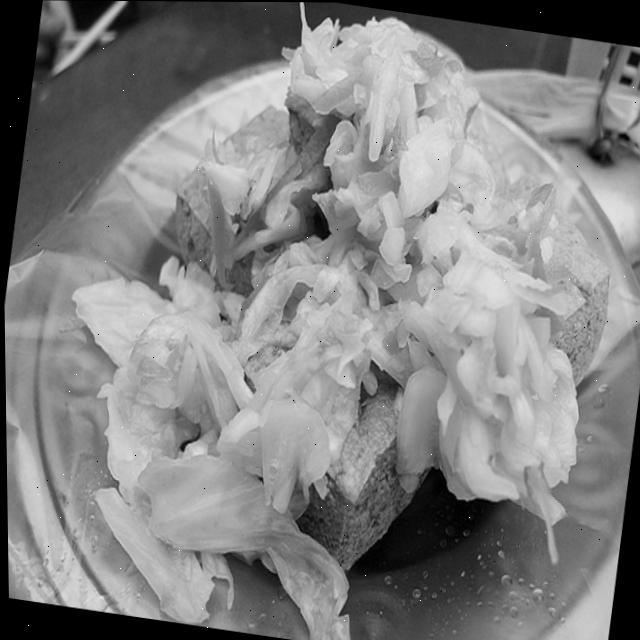豆腐料理: (19, 0, 640, 640)
